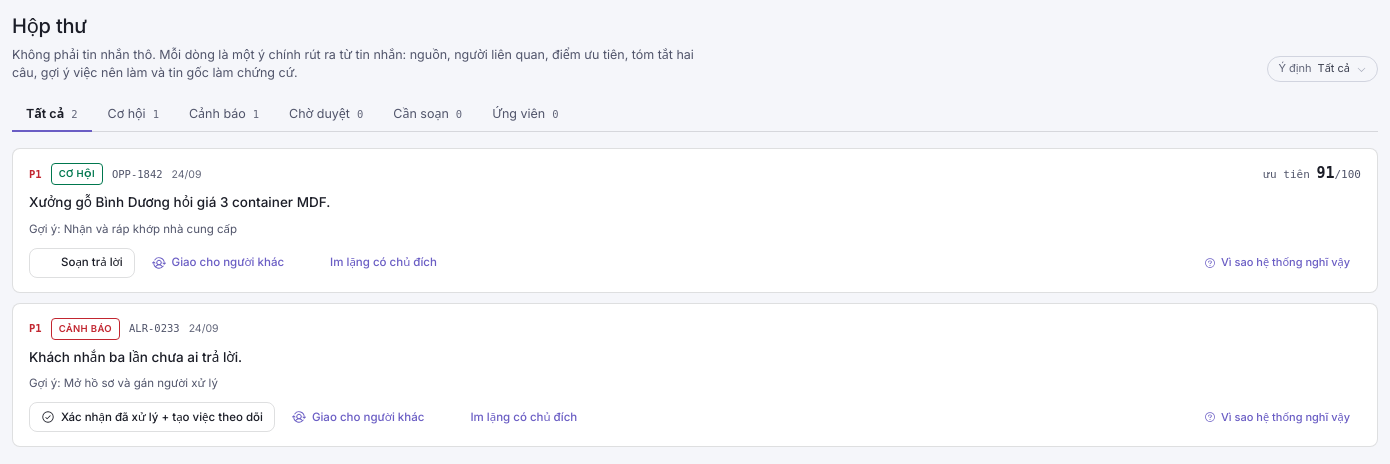
Test: Hộp thư ý nghĩa › shows tab counts and filters the list when a tab is clicked
Expected: the heading "Xưởng gỗ Bình Dương hỏi giá 3 container MDF." is shown, [29, 194, 330, 210]
Expected: the heading "Khách nhắn ba lần chưa ai trả lời." is shown, [29, 349, 242, 365]
Step 1. Click the tab "Cảnh báo 1" → click(224, 115), box [175, 98, 273, 132]
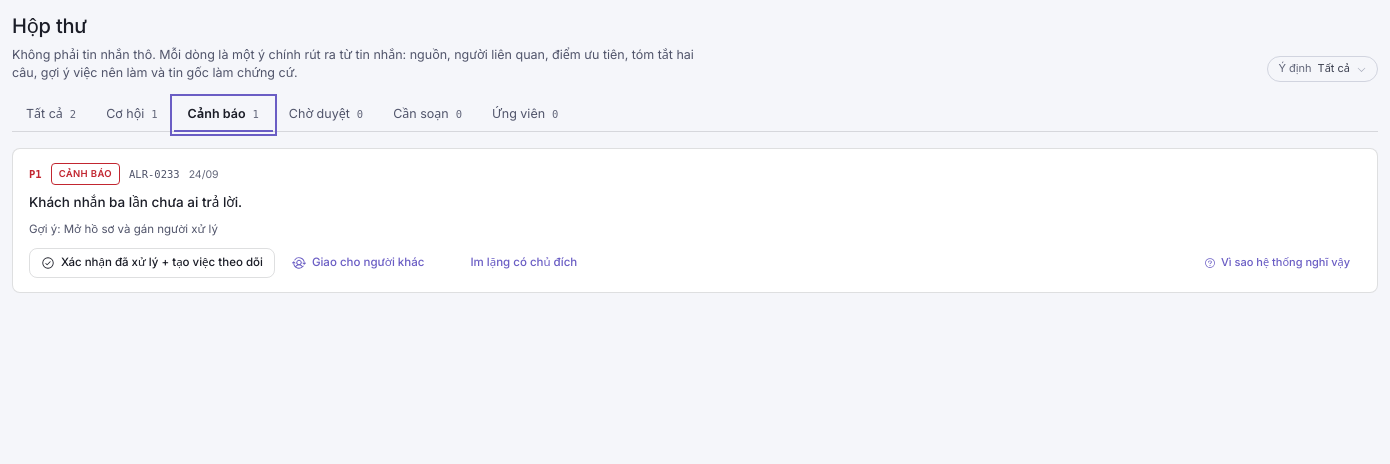
Expected: the heading "Khách nhắn ba lần chưa ai trả lời." is shown, [29, 194, 242, 210]
Now the heading "Xưởng gỗ Bình Dương hỏi giá" is gone
